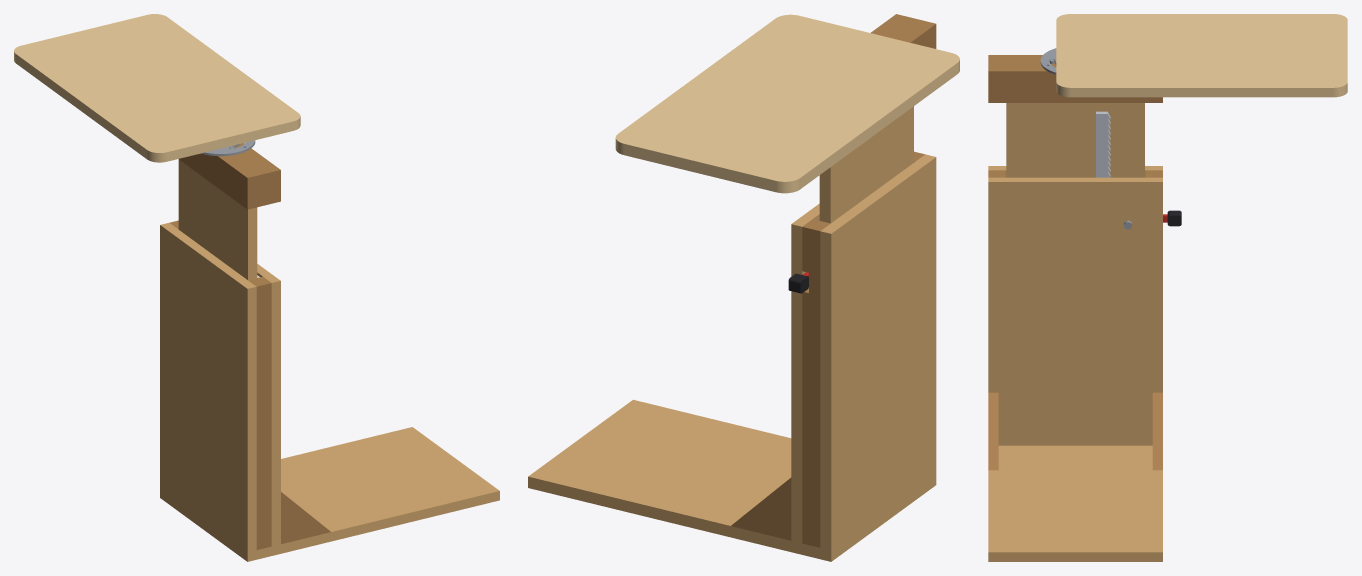
The model's file is assembly_high_rotated.glb.
3 renders of one model, left to right at view 1: azimuth 30°, elevation 25°; view 2: azimuth 150°, elevation 25°; view 3: azimuth 270°, elevation 25°, orthographic. The views are drawn at different scales.
Parts seen in each view (by area): view 1: stand_board_A, tabletop, base, mast, spacer_left, swivel_block, stand_board_B, gusset_left; view 2: stand_board_A, tabletop, base, spacer_right, mast, stand_board_B, gusset_right, swivel_block; view 3: stand_board_B, tabletop, base, mast, swivel_block, rack, gusset_left, gusset_right.
Part boxes in pixels (left/top/right/bottom): stand_board_A: left=160, top=223, right=256, bottom=552; tabletop: left=14, top=14, right=300, bottom=162; base: left=160, top=427, right=499, bottom=561; mast: left=178, top=159, right=257, bottom=280; spacer_left: left=248, top=276, right=271, bottom=549; swivel_block: left=179, top=143, right=280, bottom=209; stand_board_B: left=257, top=264, right=280, bottom=546; gusset_left: left=281, top=492, right=330, bottom=544; stand_board_A: left=820, top=154, right=936, bottom=550; tabletop: left=615, top=14, right=959, bottom=193; base: left=528, top=399, right=936, bottom=561; spacer_right: left=802, top=219, right=830, bottom=547; mast: left=819, top=106, right=913, bottom=223; stand_board_B: left=791, top=203, right=819, bottom=543; gusset_right: left=731, top=477, right=791, bottom=540; swivel_block: left=871, top=14, right=936, bottom=48; stand_board_B: left=988, top=177, right=1162, bottom=445; tabletop: left=1056, top=14, right=1347, bottom=97; base: left=988, top=445, right=1162, bottom=561; mast: left=1006, top=103, right=1144, bottom=177; swivel_block: left=988, top=55, right=1162, bottom=102; rack: left=1096, top=111, right=1110, bottom=177; gusset_left: left=988, top=392, right=998, bottom=470; gusset_right: left=1152, top=392, right=1162, bottom=470.
Size of the model in its own units: 617 by 750 by 617.
